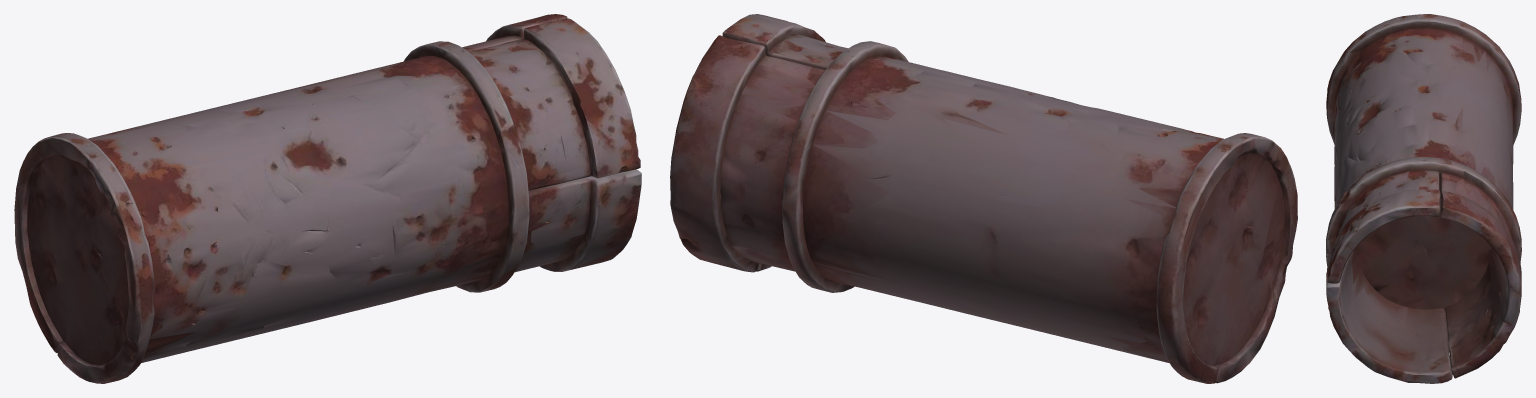
The model's file is mat_pipe_metal_stalnaya_idle.glb.
3 renders of one model, left to right at view 1: azimuth 30°, elevation 25°; view 2: azimuth 150°, elevation 25°; view 3: azimuth 270°, elevation 25°, orthographic. The views are drawn at different scales.
Parts seen in each view (by area): view 1: tripo_node_9dadc1f0-f057-4b38-8642-455079aee2f9; view 2: tripo_node_9dadc1f0-f057-4b38-8642-455079aee2f9; view 3: tripo_node_9dadc1f0-f057-4b38-8642-455079aee2f9.
Boxes of the visible parts, bbox=[...] form: tripo_node_9dadc1f0-f057-4b38-8642-455079aee2f9: bbox=[14, 14, 641, 383]; tripo_node_9dadc1f0-f057-4b38-8642-455079aee2f9: bbox=[670, 14, 1297, 383]; tripo_node_9dadc1f0-f057-4b38-8642-455079aee2f9: bbox=[1326, 14, 1521, 383].
Bounding box in the file's own units: 0.9996 × 0.4369 × 0.4302.
Materials: 1 (1 with a texture image).
